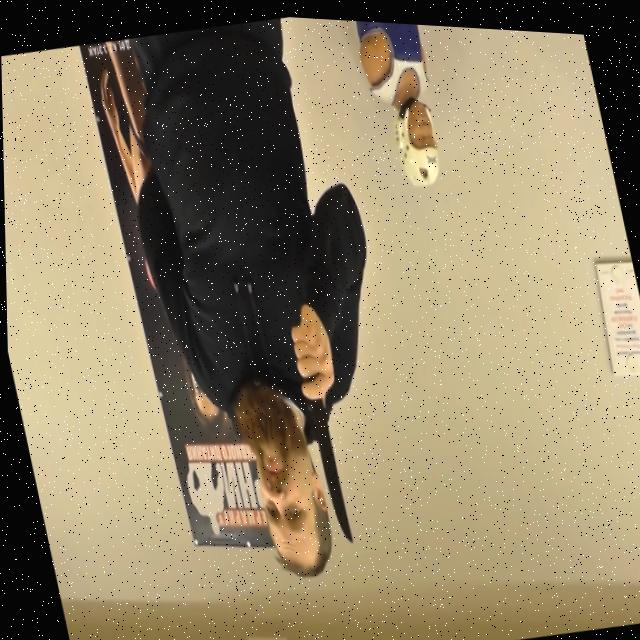knife: (301, 391, 360, 552)
